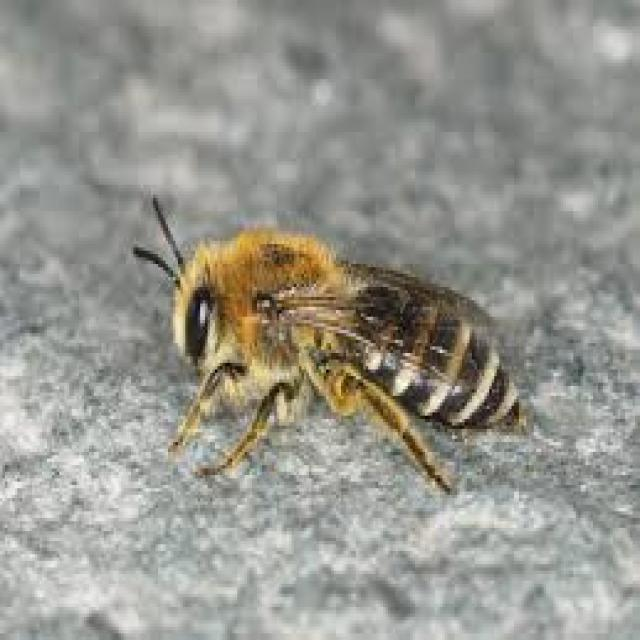Bees: (132, 192, 531, 500)
